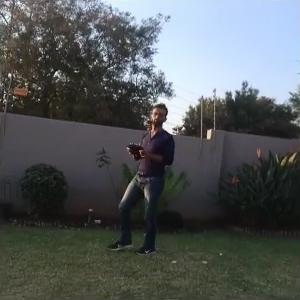follow: (104, 97, 176, 259)
